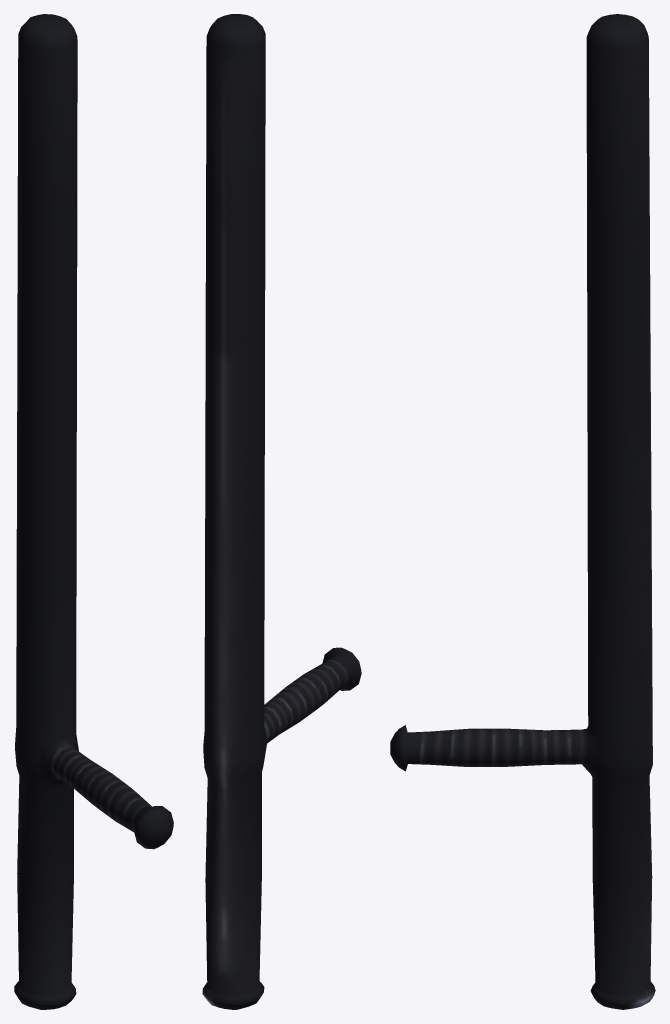
The picture shows the model from 3 angles, left to right: view 1: azimuth 30°, elevation 25°; view 2: azimuth 150°, elevation 25°; view 3: azimuth 270°, elevation 25°; orthographic projection.
Parts seen in each view (by area): view 1: Tonfa; view 2: Tonfa; view 3: Tonfa.
Boxes of the visible parts, box(x1,y1,x2,y2) form: Tonfa: box(14, 14, 173, 1009); Tonfa: box(202, 14, 361, 1009); Tonfa: box(390, 14, 655, 1009).
Size of the model in its own units: 2.18 by 9.04 by 37.07.
